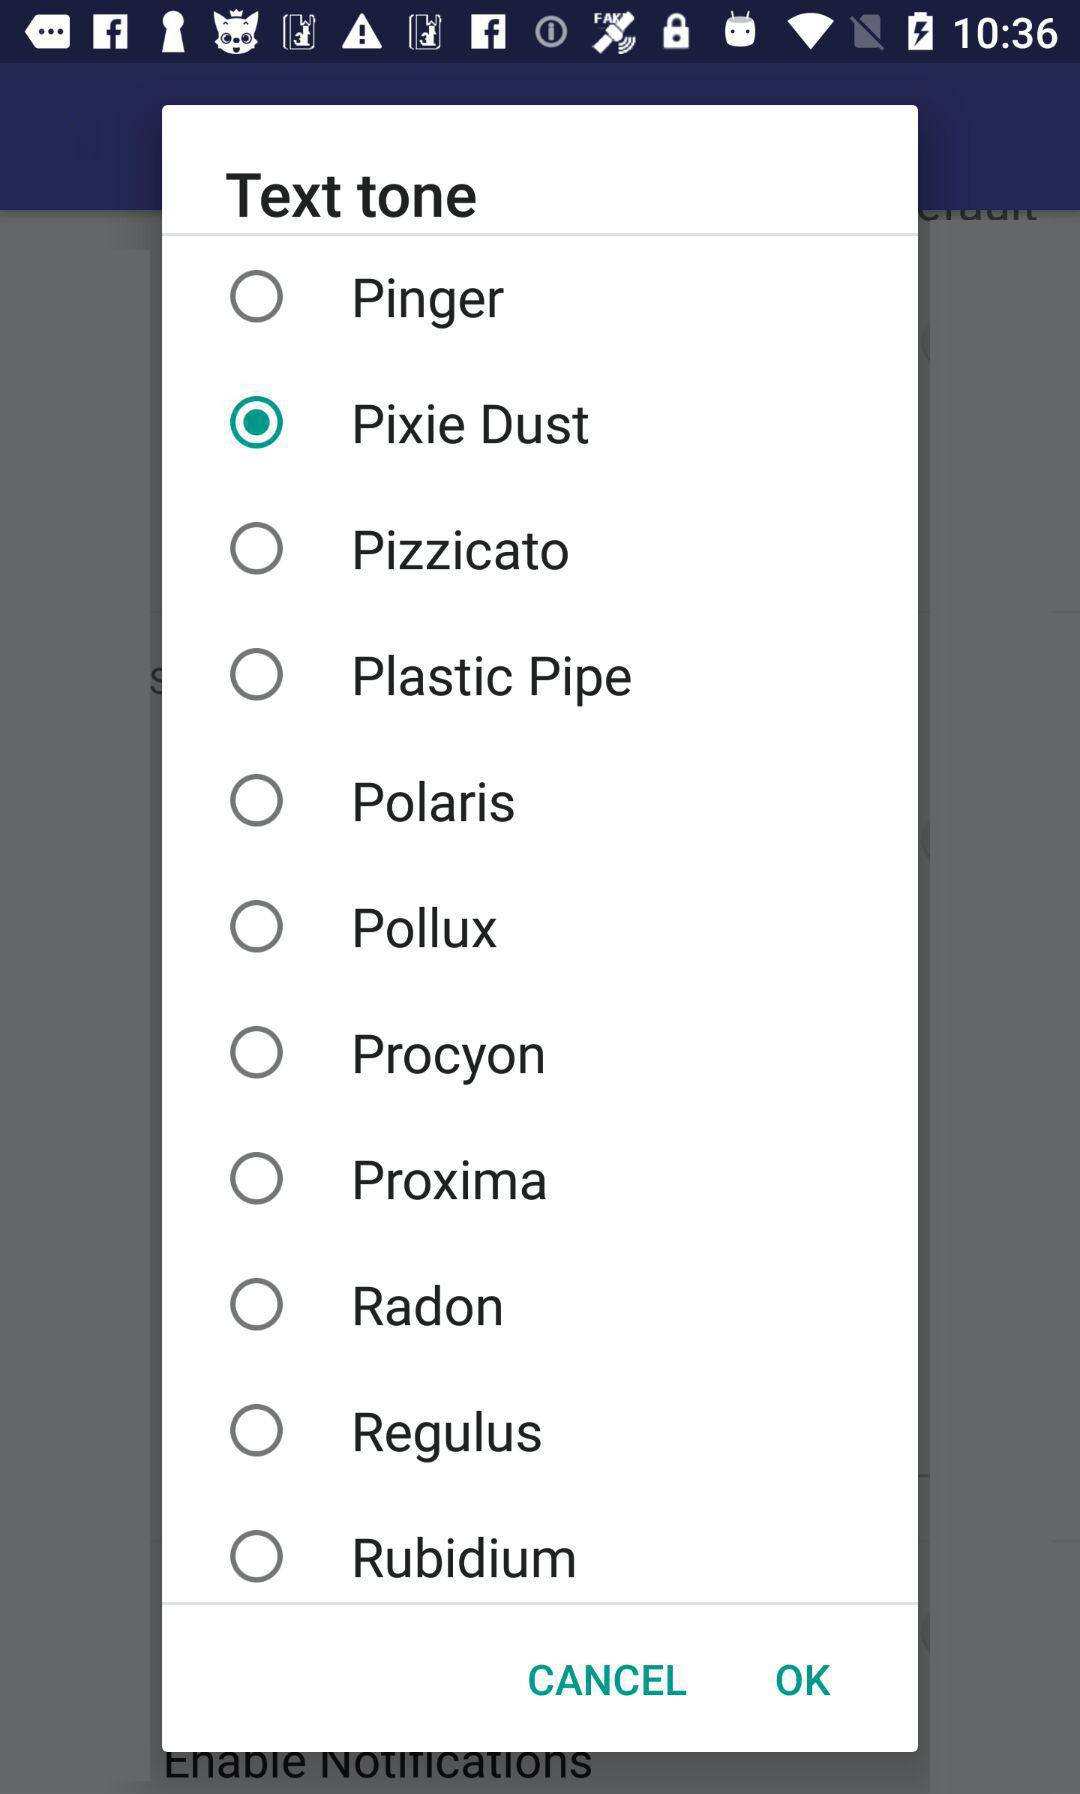CheckedTextView: (229, 648, 632, 709), (231, 396, 591, 450), (231, 1025, 544, 1085), (231, 1530, 575, 1584), (231, 1404, 542, 1463), (231, 522, 569, 575), (231, 1152, 546, 1206), (231, 270, 505, 331), (229, 773, 515, 828), (231, 1278, 503, 1331), (231, 900, 498, 953)
Modal: (161, 106, 919, 1752)
Text: (355, 654, 632, 709), (225, 173, 477, 220), (355, 1410, 542, 1463), (354, 404, 591, 445), (355, 1034, 544, 1085), (355, 1536, 575, 1579), (355, 531, 569, 572), (355, 1158, 546, 1201), (355, 277, 505, 331), (355, 780, 515, 823), (355, 1284, 503, 1328), (355, 906, 498, 950), (529, 1665, 685, 1695), (776, 1665, 831, 1697)
UpperTaskBar: (1, 1, 1080, 64)
